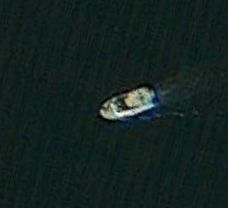boat: (100, 86, 158, 121)
